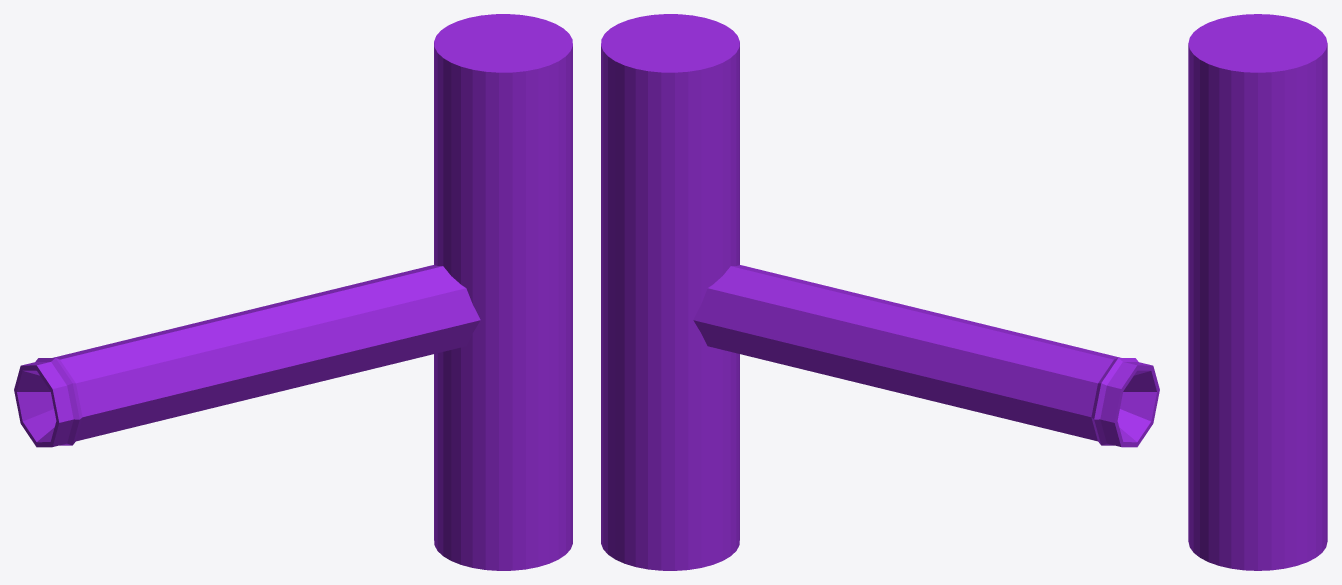
The model's file is thymidine.fbx.
3 views of the same model, side by side, from view 1: azimuth 30°, elevation 25°; view 2: azimuth 150°, elevation 25°; view 3: azimuth 270°, elevation 25° (orthographic).
Visible parts, largest first — view 1: thymidine; view 2: thymidine; view 3: thymidine.
Part boxes in pixels (<box>): thymidine: <box>14,14,572,570</box>; thymidine: <box>601,14,1159,570</box>; thymidine: <box>1188,14,1327,570</box>.
Size of the model in its own units: 56.44 by 50.98 by 12.91.
